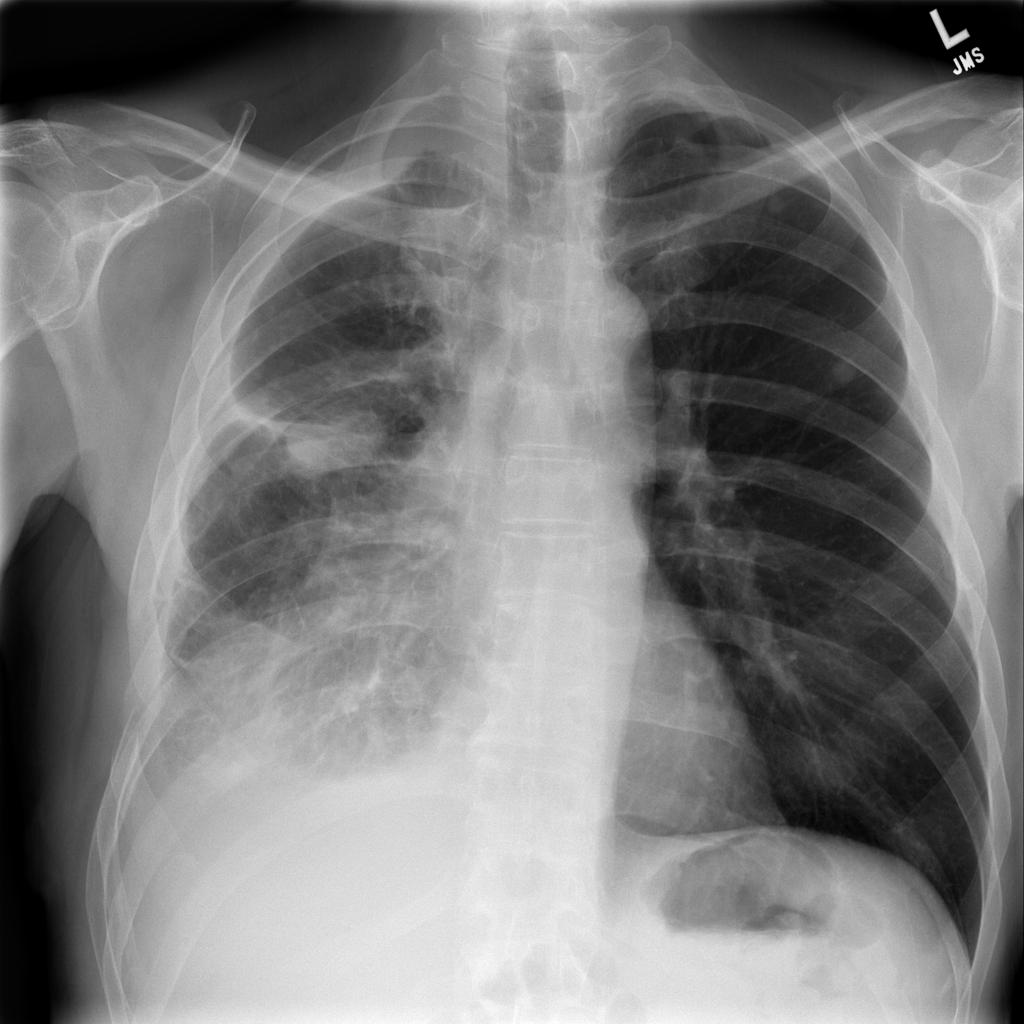nodule: (270, 387, 400, 496), (810, 335, 880, 408), (751, 179, 803, 226)
